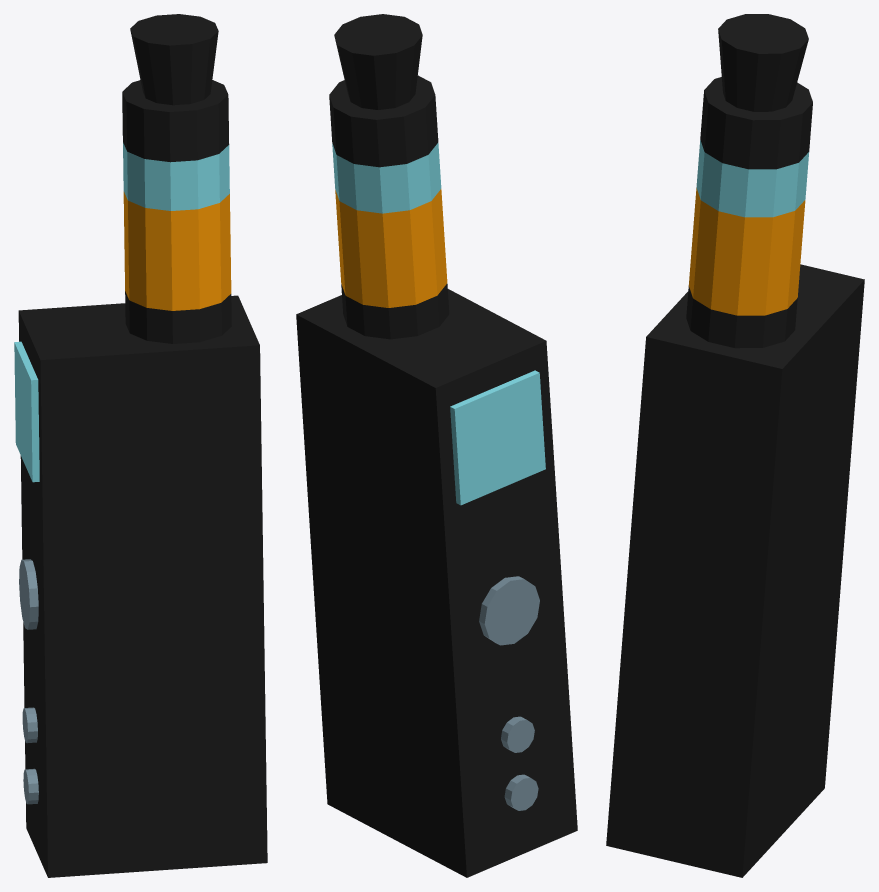
The model's file is vape_pen_large_5CMa9iNBbAK.glb.
3 renders of one model, left to right at view 1: azimuth 30°, elevation 25°; view 2: azimuth 150°, elevation 25°; view 3: azimuth 270°, elevation 25°, orthographic. The views are drawn at different scales.
Parts seen in each view (by area): view 1: group1595177328, group934012116, group425743952, group558881694, group421681305, group385603075, group1290590548, group1699000282, group784747430, group147670151; view 2: group1595177328, group934012116, group1290590548, group425743952, group558881694, group421681305, group385603075, group1699000282, group784747430, group147670151; view 3: group1595177328, group934012116, group425743952, group558881694, group421681305, group385603075.
Part boxes in pixels (box(x1,y1,x2,y2)): group1595177328: box(18, 295, 267, 877); group934012116: box(123, 191, 231, 310); group425743952: box(130, 14, 218, 105); group558881694: box(122, 80, 229, 162); group421681305: box(123, 142, 229, 210); group385603075: box(125, 291, 231, 343); group1290590548: box(14, 341, 39, 482); group1699000282: box(19, 559, 38, 629); group784747430: box(23, 768, 38, 804); group147670151: box(22, 707, 37, 743); group1595177328: box(296, 289, 577, 877); group934012116: box(335, 189, 447, 307); group1290590548: box(450, 370, 545, 505); group425743952: box(334, 14, 422, 109); group558881694: box(329, 75, 438, 167); group421681305: box(332, 143, 441, 213); group385603075: box(341, 283, 449, 339); group1699000282: box(479, 576, 539, 645); group784747430: box(504, 774, 538, 810); group147670151: box(501, 716, 534, 752); group1595177328: box(606, 264, 864, 877); group934012116: box(688, 188, 805, 315); group425743952: box(718, 14, 808, 111); group558881694: box(700, 77, 812, 169); group421681305: box(696, 140, 809, 217); group385603075: box(686, 286, 797, 348).
Bounding box in the file's own units: 0.1528 × 0.492 × 0.1412.
